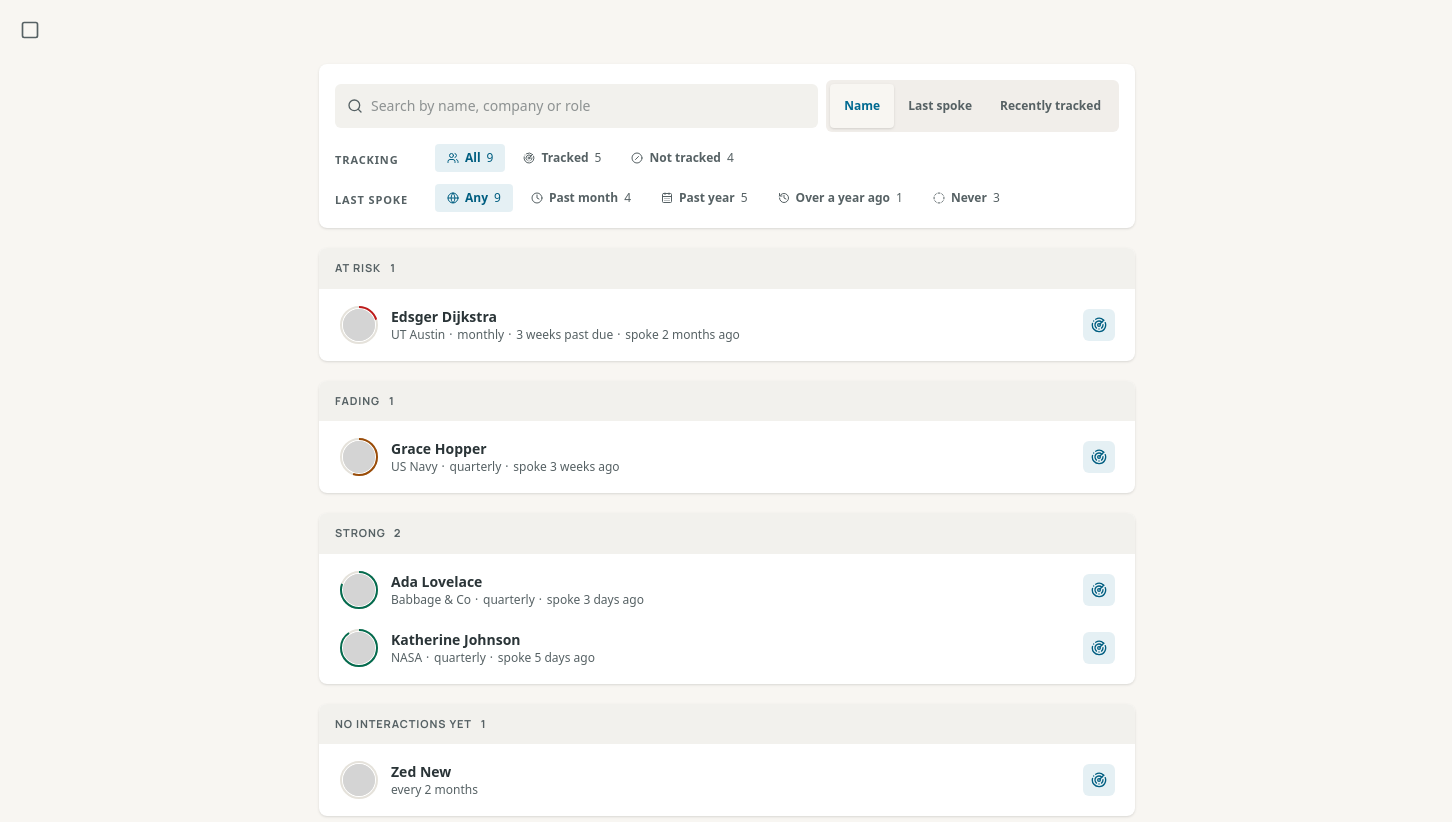
Test: the Tracked contacts page's filters › narrows the groups, writes the choices into the address, and recounts the other row
Click the button "Not tracked 4" at (683, 158), box [620,144,746,172]
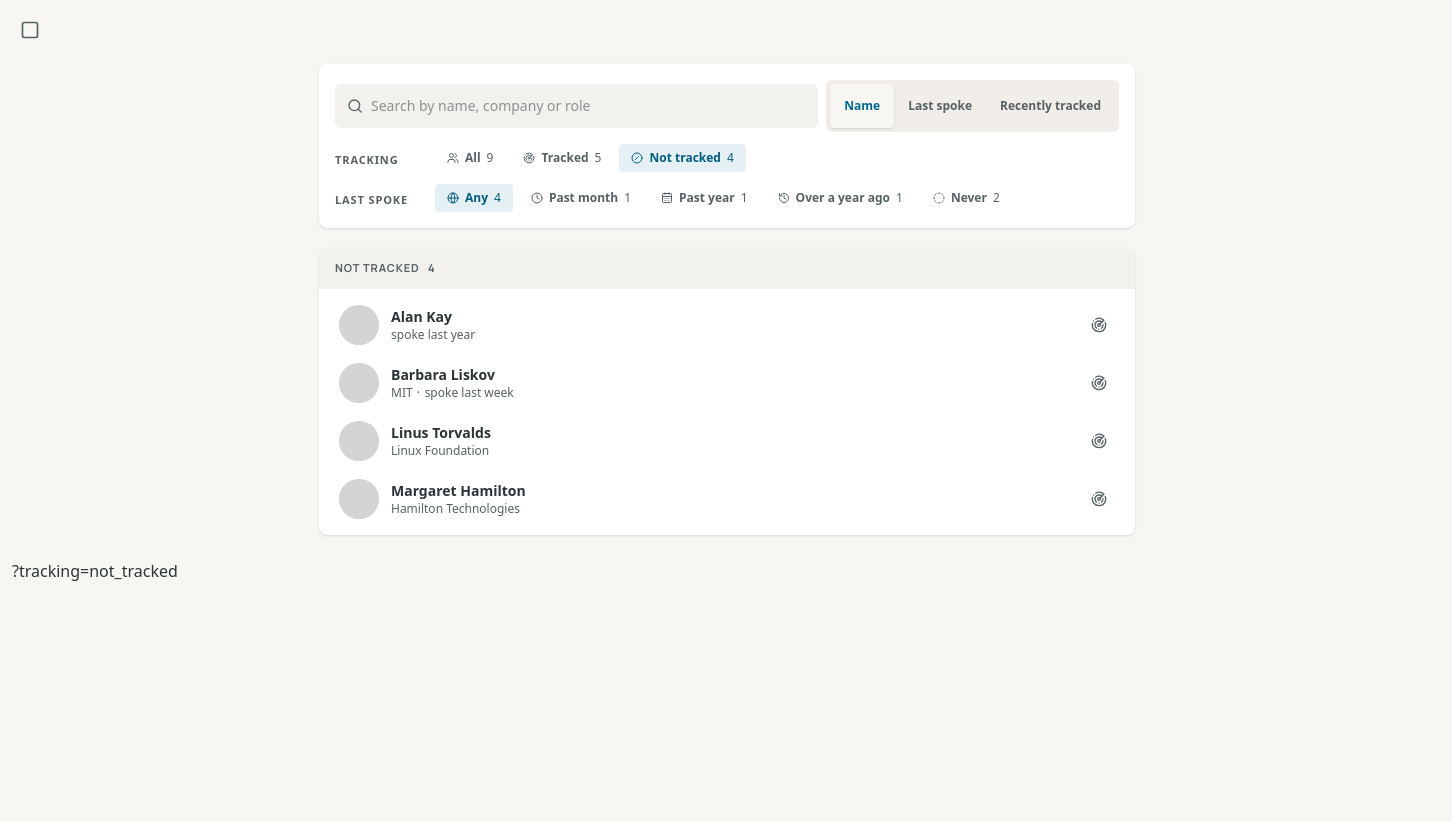
Now the text with test id "where" reads "?tracking=not_tracked", box [12,560,178,582]
Now the heading "Strong" is gone
Click the button "Past month 1" at (581, 198), box [519,184,643,212]
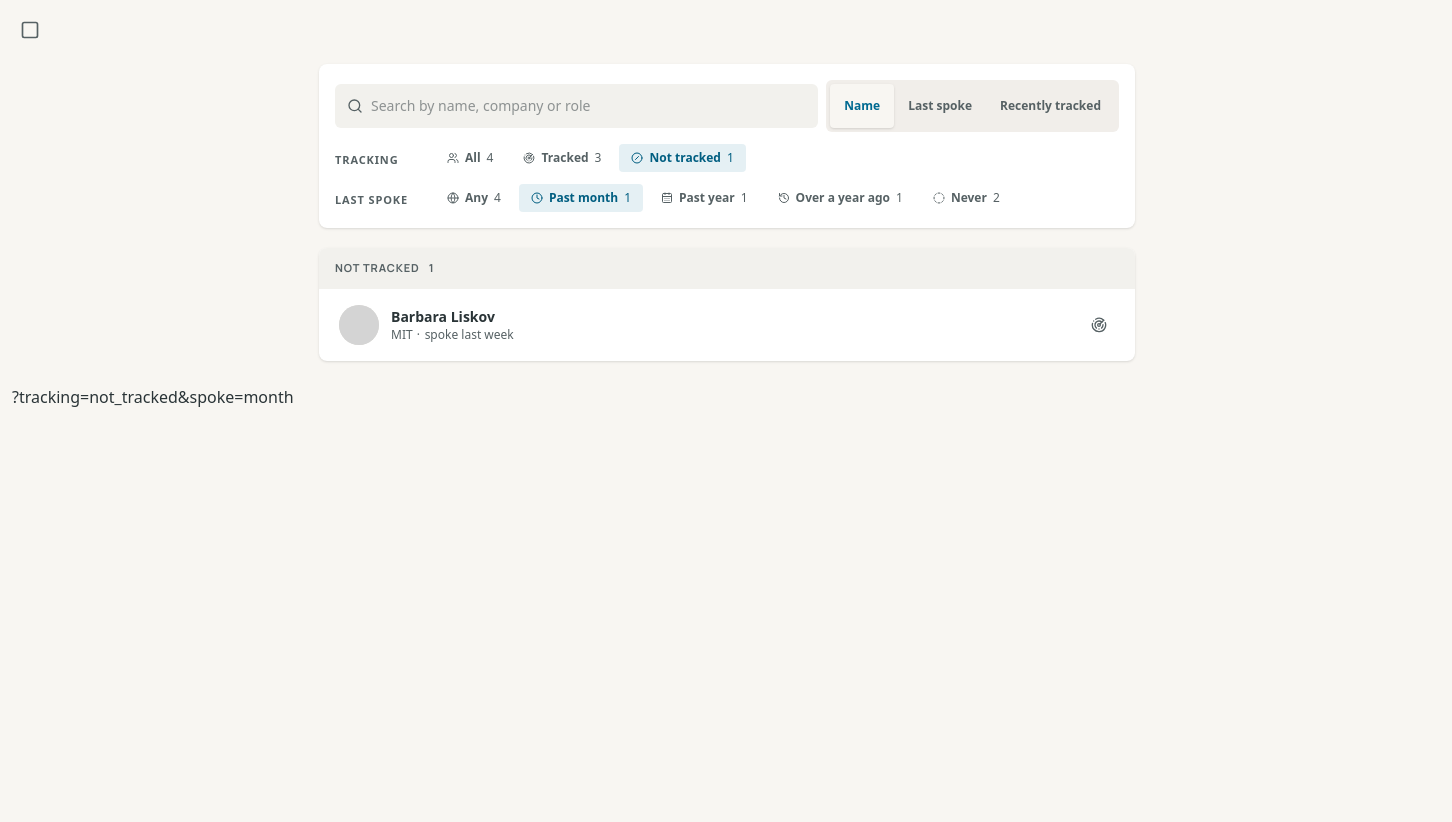
Now the text with test id "where" reads "?tracking=not_tracked&spoke=month", box [12,386,294,408]
